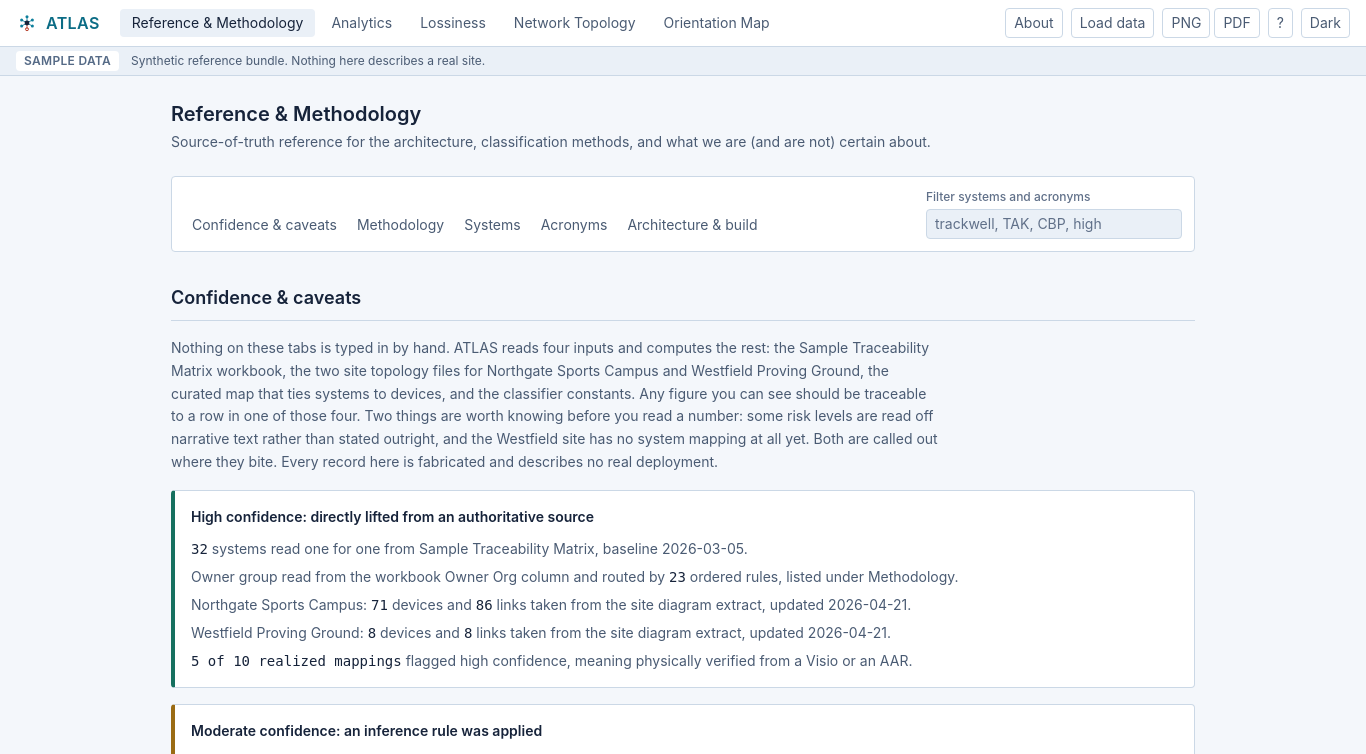
Test: the shell opens the palette › opens from inside a panel search box, which is the point of it
Click the search field labelled "Filter systems and acronyms". click: (1054, 224)
box: [926,209,1182,239]
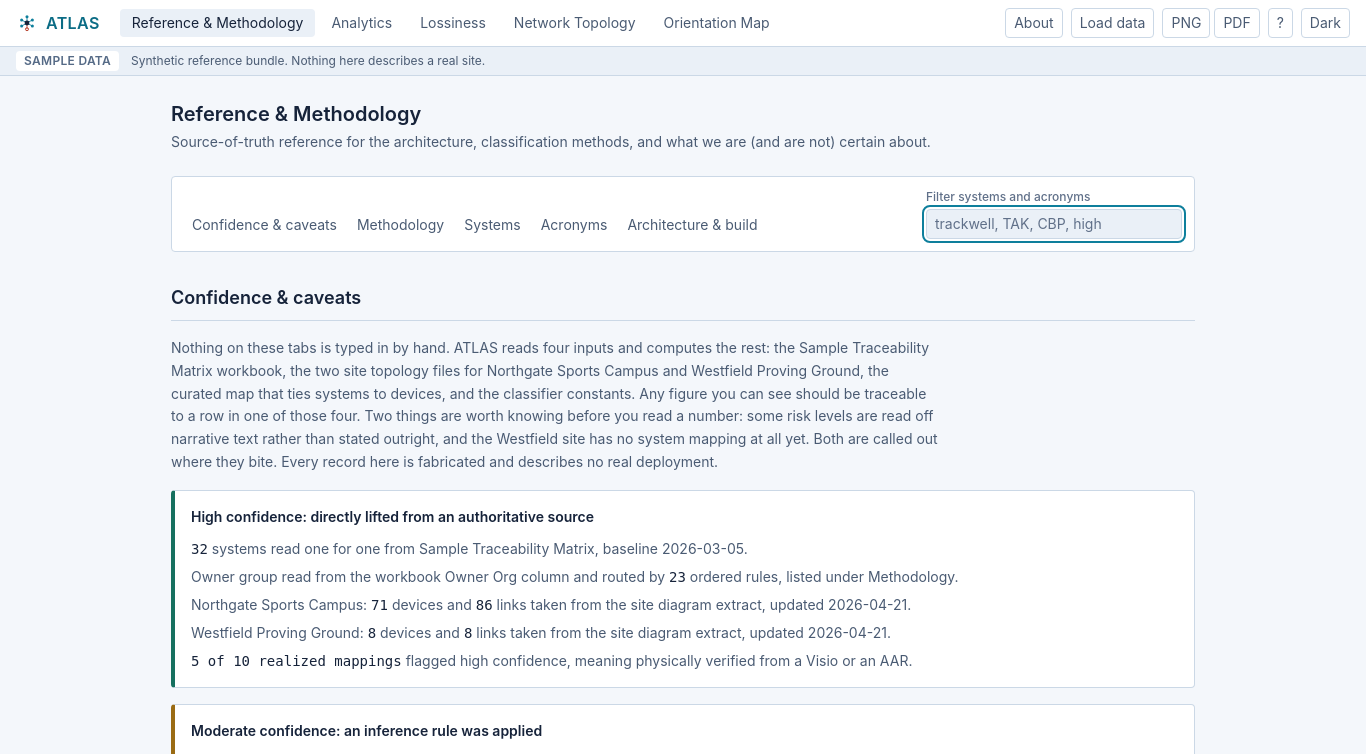
Type keys "{Meta>}k{/Meta}"
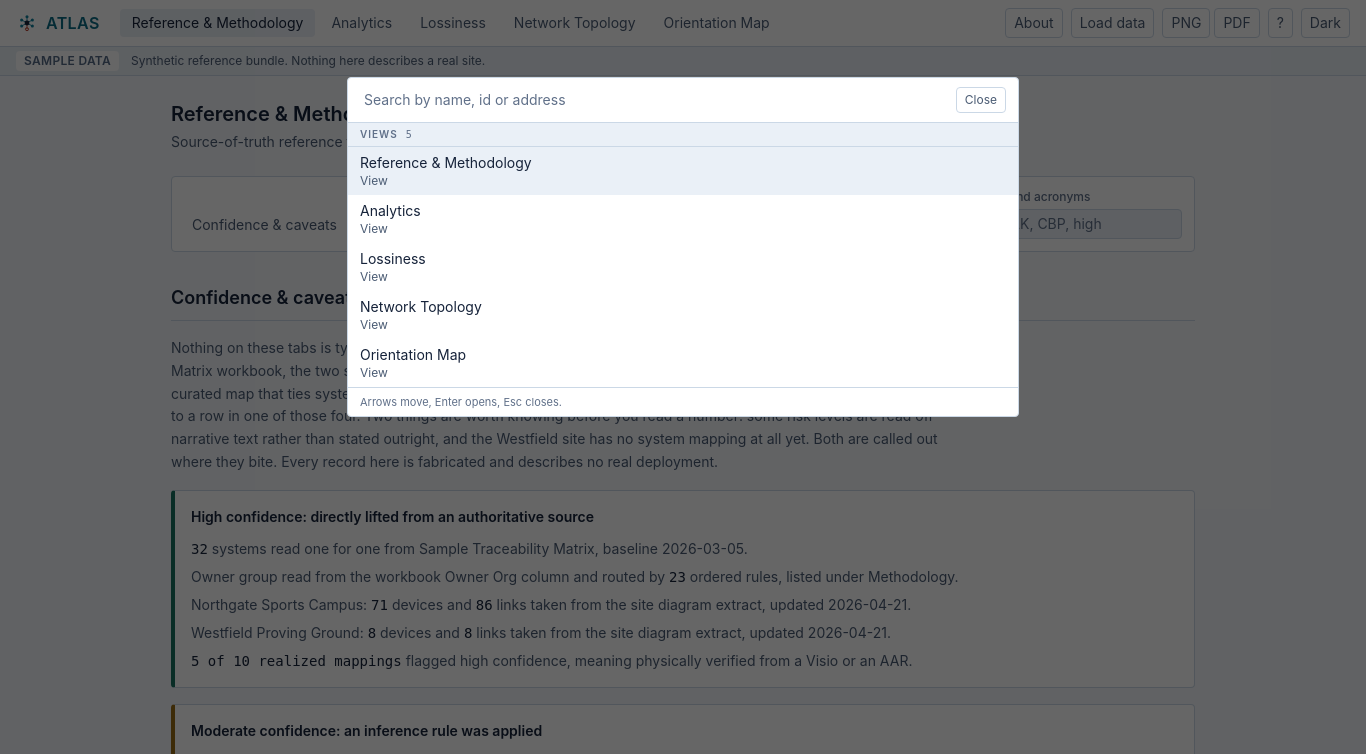
expect the dialog named "search" is shown: met, box [347,77,1019,417]
